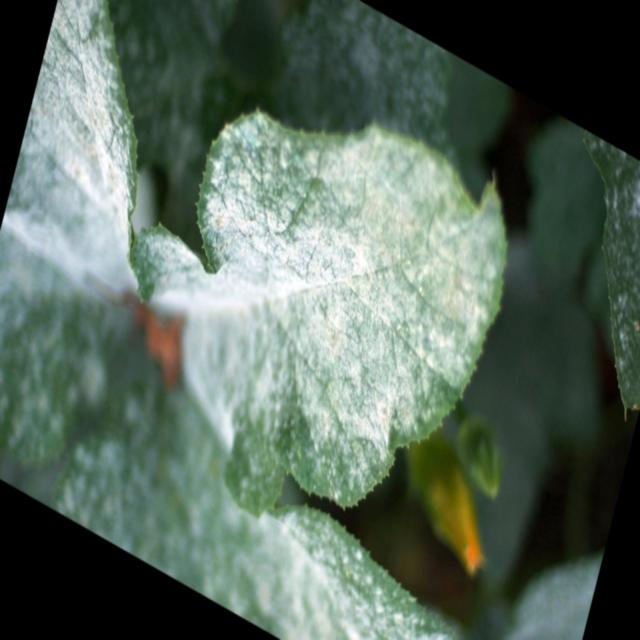Powdery Mildew: (134, 103, 508, 516)
